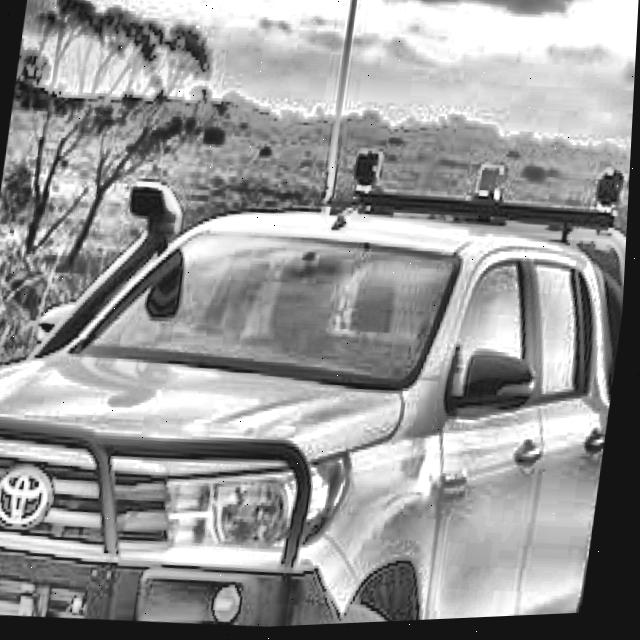light_vehicle: (0, 122, 634, 640)
